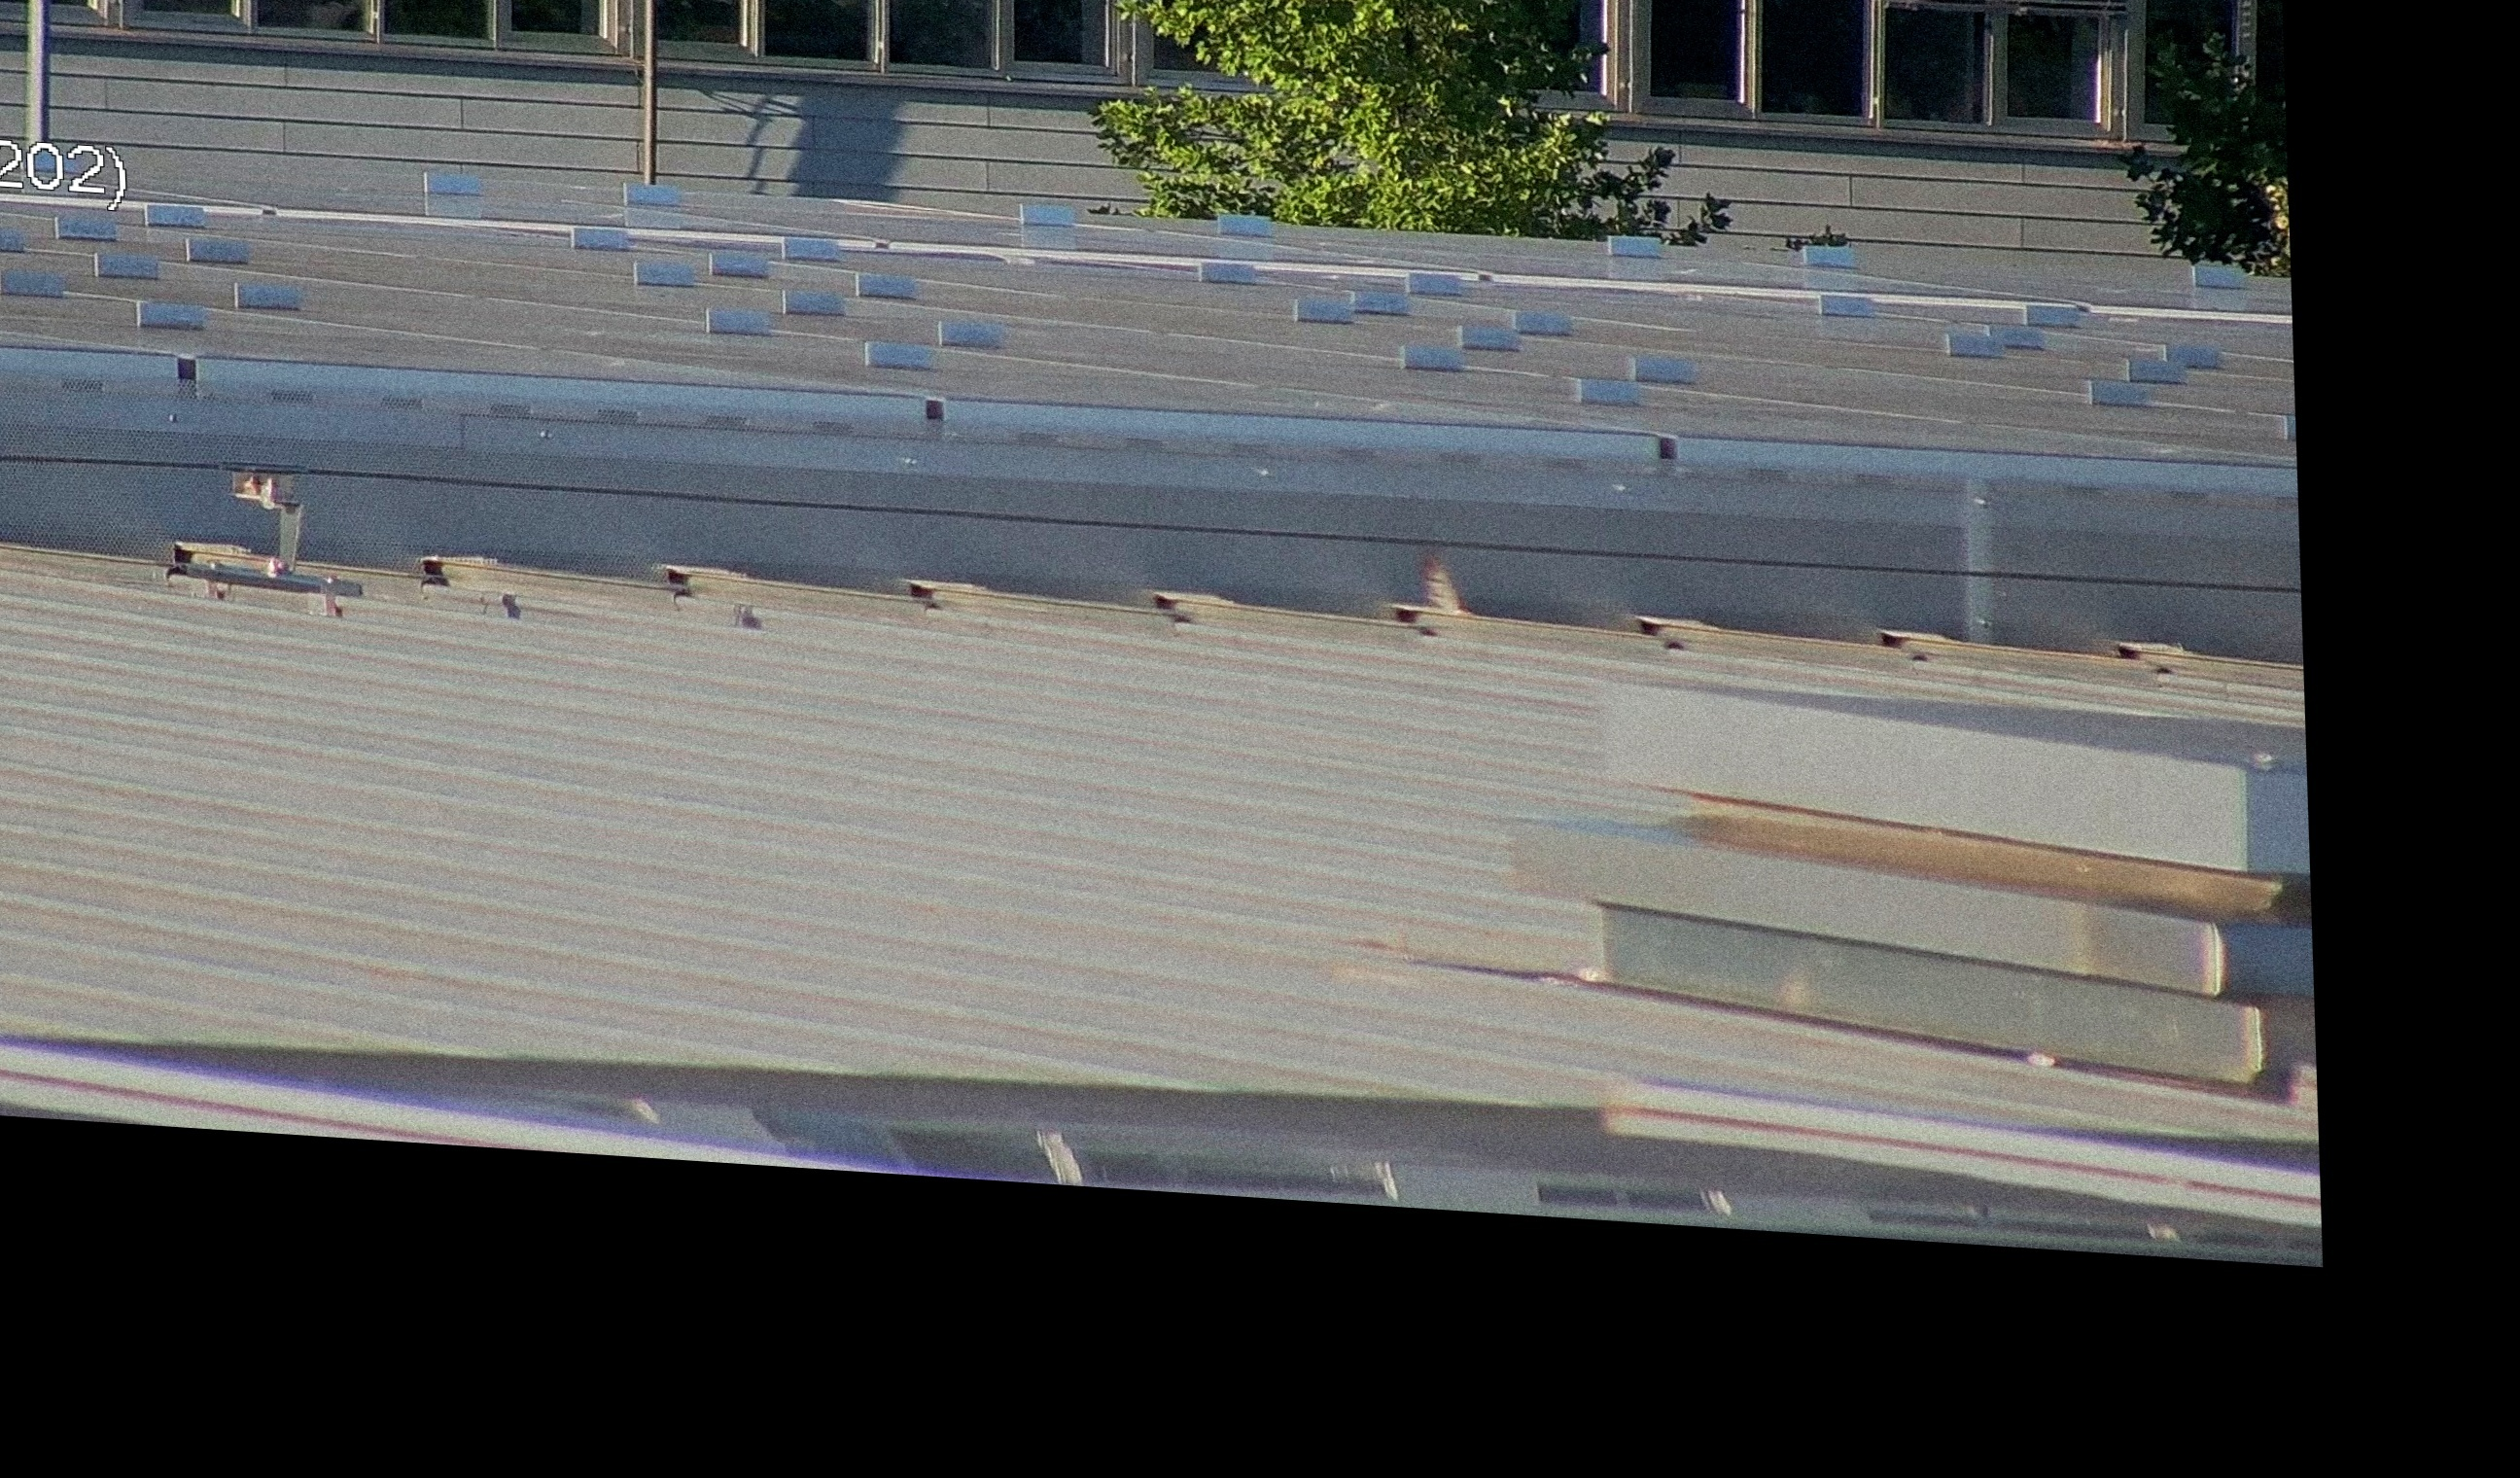Other: (1395, 533, 1488, 646)
